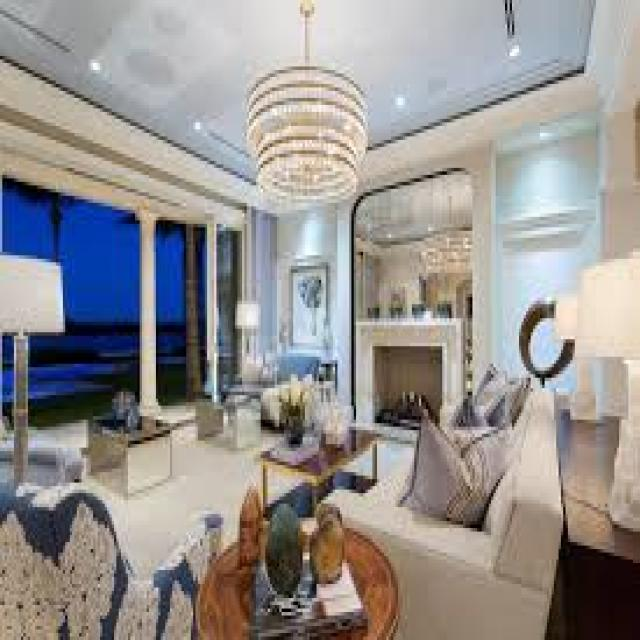Chair: (0, 479, 223, 640)
Lamp: (230, 60, 380, 213), (573, 227, 640, 529), (1, 249, 68, 487), (557, 291, 605, 434), (230, 292, 262, 383)
Sofa: (349, 370, 558, 640)
Table: (193, 493, 400, 640), (246, 394, 376, 504), (90, 401, 172, 498)
